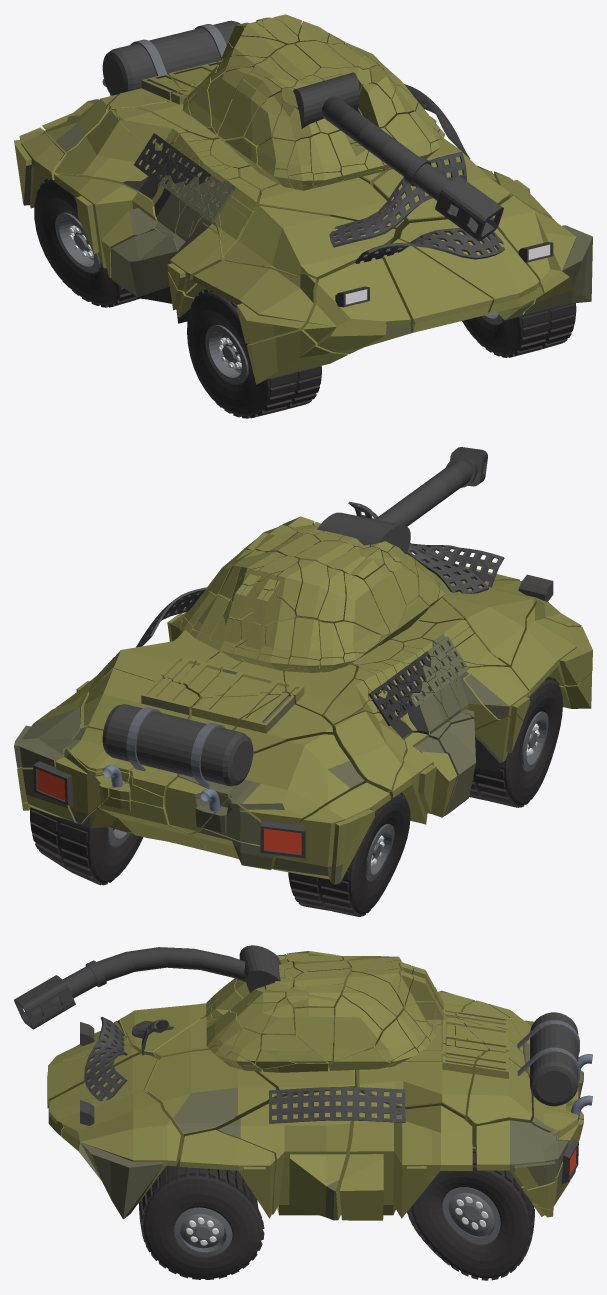
File: BvpDestro.fbx
The picture shows the model from 3 angles, top to bottom: view 1: azimuth 30°, elevation 25°; view 2: azimuth 150°, elevation 25°; view 3: azimuth 270°, elevation 25°; orthographic projection. The views are drawn at different scales.
Visible parts, largest first — view 1: BvpWheelRightFront.002, BvpTurretBarelGreen.015, BvpTrunkGreen.001_cell.073, BvpTrunkGreen.001_cell.039, BvpTrunkGreen.001_cell.095, BvpTrunkGreen.001_cell.056, BvpWheelRightBack.002, BvpTrunkGreen.001_cell.053, BvpTrunkGreen.001_cell.038, BvpTrunkGreen.001_cell.025, BvpTrunkGreen.002, BvpTrunkGreen.001_cell.099 (+44 smaller); view 2: BvpTrunkGreen.001_cell.058, BvpTrunkGreen.002, BvpWheelRightBack.002, BvpWheelRightFront.002, BvpTrunkGreen.001_cell.021, BvpTurretBarelGreen.015, BvpWheelLeftBack.002, BvpTrunkGreen.001_cell.095, BvpTrunkGreen.001_cell.025, BvpTrunkGreen.001_cell.073, BvpTrunkGreen.001_cell.041, BvpTrunkGreen.001_cell.099 (+56 smaller); view 3: BvpWheelLeftFront.002, BvpTrunkGreen.001_cell.067, BvpWheelLeftBack.002, BvpTrunkGreen.001_cell.002, BvpTrunkGreen.001_cell.056, BvpTurretBarelGreen.015, BvpTrunkGreen.001_cell.091, BvpTrunkGreen.001_cell.006, BvpTrunkGreen.001_cell, BvpTrunkGreen.005, BvpTrunkGreen.001_cell.041, BvpTrunkGreen.001_cell.019 (+41 smaller).
Part boxes in pixels (left/top/right/bottom): BvpWheelRightFront.002: left=187, top=289, right=321, bottom=418; BvpTurretBarelGreen.015: left=293, top=72, right=503, bottom=241; BvpTrunkGreen.001_cell.073: left=224, top=205, right=395, bottom=281; BvpTrunkGreen.001_cell.039: left=303, top=257, right=410, bottom=354; BvpTrunkGreen.001_cell.095: left=192, top=260, right=317, bottom=343; BvpTrunkGreen.001_cell.056: left=492, top=195, right=592, bottom=314; BvpWheelRightBack.002: left=34, top=177, right=154, bottom=307; BvpTrunkGreen.001_cell.053: left=383, top=239, right=492, bottom=332; BvpTrunkGreen.001_cell.038: left=395, top=219, right=543, bottom=320; BvpTrunkGreen.001_cell.025: left=54, top=174, right=161, bottom=278; BvpTrunkGreen.002: left=102, top=20, right=240, bottom=95; BvpTrunkGreen.001_cell.099: left=54, top=110, right=155, bottom=192; BvpTrunkGreen.001_cell.058: left=230, top=734, right=364, bottom=824; BvpTrunkGreen.002: left=102, top=704, right=253, bottom=786; BvpWheelRightBack.002: left=288, top=792, right=410, bottom=916; BvpWheelRightFront.002: left=469, top=676, right=562, bottom=807; BvpTrunkGreen.001_cell.021: left=272, top=782, right=390, bottom=884; BvpTurretBarelGreen.015: left=317, top=447, right=487, bottom=562; BvpWheelLeftBack.002: left=30, top=722, right=143, bottom=885; BvpTrunkGreen.001_cell.095: left=509, top=599, right=592, bottom=696; BvpTrunkGreen.001_cell.025: left=378, top=732, right=457, bottom=824; BvpTrunkGreen.001_cell.073: left=437, top=577, right=535, bottom=666; BvpTrunkGreen.001_cell.041: left=84, top=668, right=199, bottom=730; BvpTrunkGreen.001_cell.099: left=332, top=711, right=405, bottom=791; BvpWheelLeftFront.002: left=138, top=1159, right=264, bottom=1279; BvpTrunkGreen.001_cell.067: left=339, top=1092, right=472, bottom=1220; BvpWheelLeftBack.002: left=407, top=1148, right=534, bottom=1280; BvpTrunkGreen.001_cell.002: left=217, top=1090, right=353, bottom=1220; BvpTrunkGreen.001_cell.056: left=61, top=1091, right=182, bottom=1219; BvpTurretBarelGreen.015: left=14, top=945, right=285, bottom=1029; BvpTrunkGreen.001_cell.091: left=146, top=1050, right=276, bottom=1143; BvpTrunkGreen.001_cell.006: left=476, top=1120, right=567, bottom=1189; BvpTrunkGreen.001_cell: left=359, top=1055, right=474, bottom=1121; BvpTrunkGreen.005: left=269, top=1087, right=405, bottom=1123; BvpTrunkGreen.001_cell.041: left=467, top=1050, right=532, bottom=1148; BvpTrunkGreen.001_cell.019: left=179, top=1129, right=275, bottom=1218.
Size of the model in its own units: 4.88 by 4.01 by 7.98.
